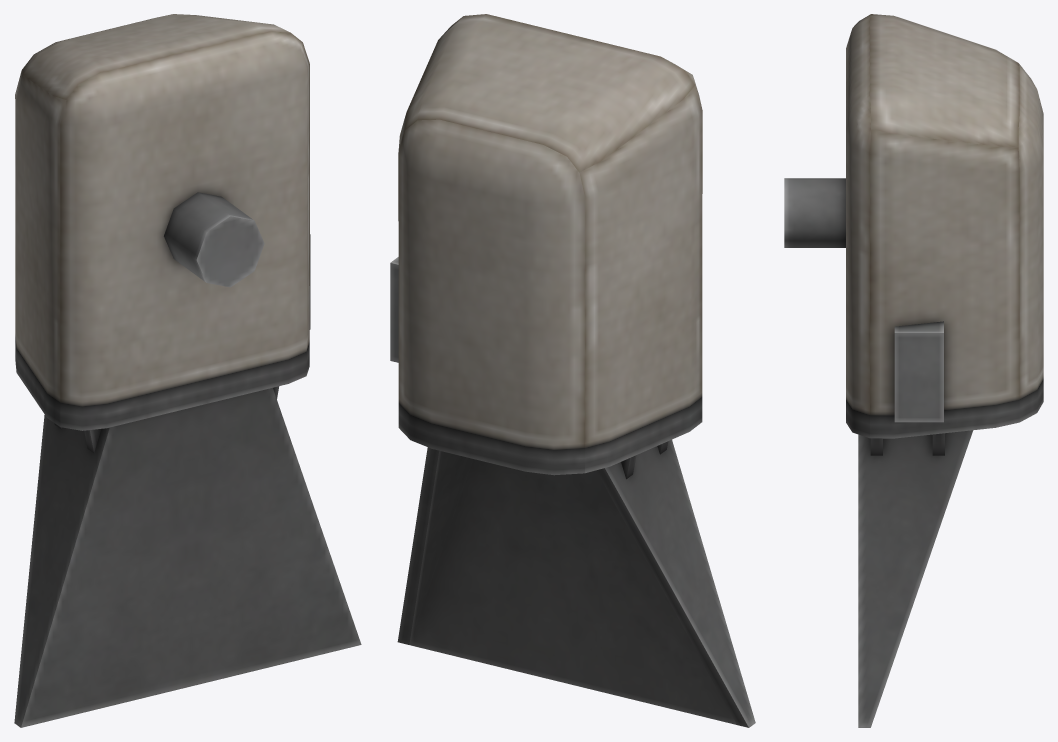
File: fgb engine.obj
The picture shows the model from 3 angles, left to right: view 1: azimuth 30°, elevation 25°; view 2: azimuth 150°, elevation 25°; view 3: azimuth 270°, elevation 25°; orthographic projection. The views are drawn at different scales.
Visible parts, largest first — view 1: 1; view 2: 1; view 3: 1.
Boxes of the visible parts, left/top/right/bottom form: 1: left=14, top=14, right=361, bottom=727; 1: left=390, top=14, right=755, bottom=727; 1: left=784, top=14, right=1043, bottom=727.
Bounding box in the file's own units: 0.375 × 0.6629 × 0.2625.
Materials: 1 (1 with a texture image).
